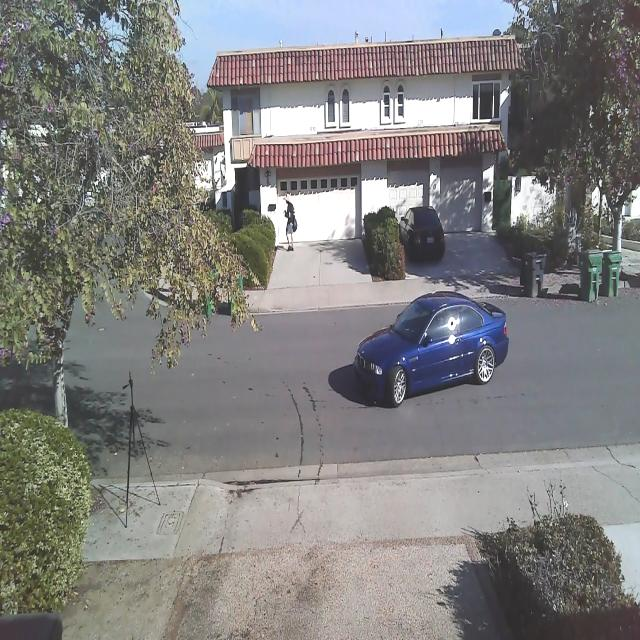Carbeetle: (347, 287, 514, 412)
Civilian: (399, 205, 445, 263)
